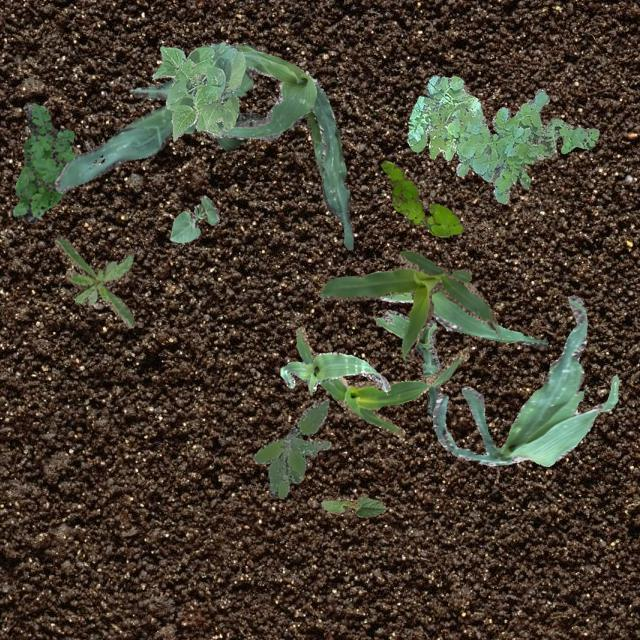crop: (432, 294, 618, 466), (54, 42, 262, 192), (317, 248, 501, 362), (294, 326, 468, 436), (208, 43, 334, 174), (377, 288, 548, 346), (152, 40, 244, 140), (288, 110, 352, 248), (374, 308, 439, 414), (280, 352, 390, 394), (168, 194, 218, 242), (320, 494, 386, 516)
weed: (407, 74, 598, 202), (12, 101, 78, 222), (252, 398, 330, 498), (54, 235, 134, 328), (380, 160, 462, 236)
